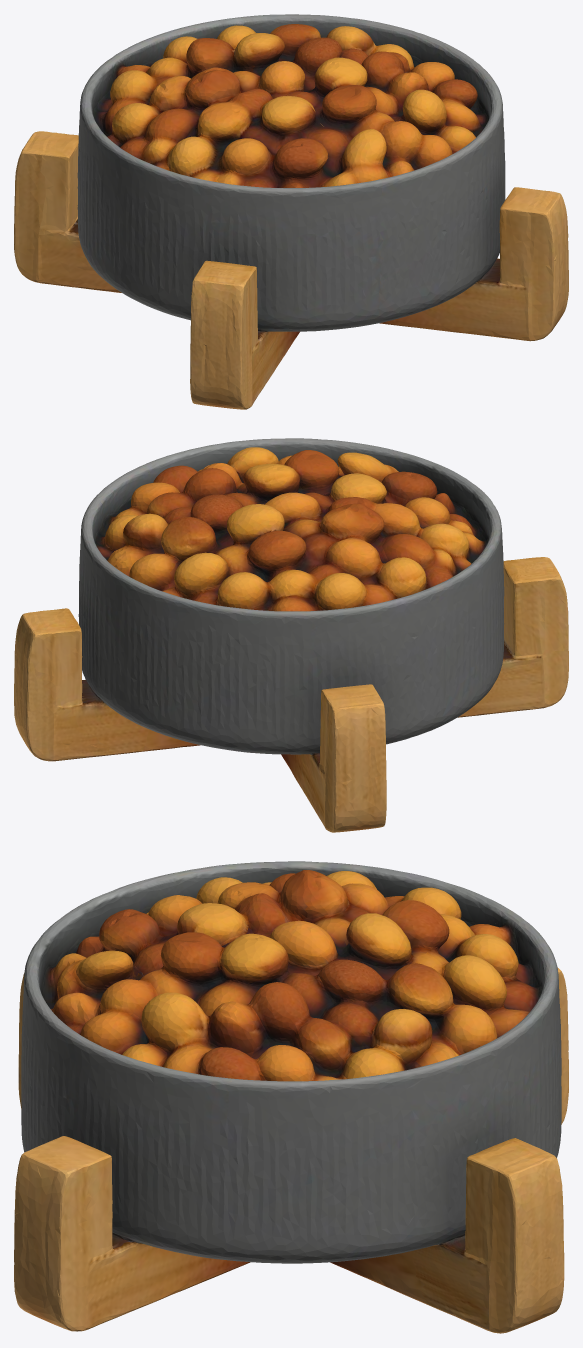
The model's file is bowl_food_6.glb.
3 views of the same model, one above another, from view 1: azimuth 30°, elevation 25°; view 2: azimuth 150°, elevation 25°; view 3: azimuth 270°, elevation 25° (orthographic). The views are drawn at different scales.
Parts seen in each view (by area): view 1: tripo_node_6439f19c-0b73-4b31-aca3-1509e474d334; view 2: tripo_node_6439f19c-0b73-4b31-aca3-1509e474d334; view 3: tripo_node_6439f19c-0b73-4b31-aca3-1509e474d334.
Boxes of the visible parts, left/top/right/bottom form: tripo_node_6439f19c-0b73-4b31-aca3-1509e474d334: left=14, top=14, right=568, bottom=409; tripo_node_6439f19c-0b73-4b31-aca3-1509e474d334: left=14, top=438, right=568, bottom=832; tripo_node_6439f19c-0b73-4b31-aca3-1509e474d334: left=14, top=861, right=568, bottom=1333.
Bounding box in the file's own units: 0.7755 × 0.474 × 0.7746.
1 material, 1 textured.
